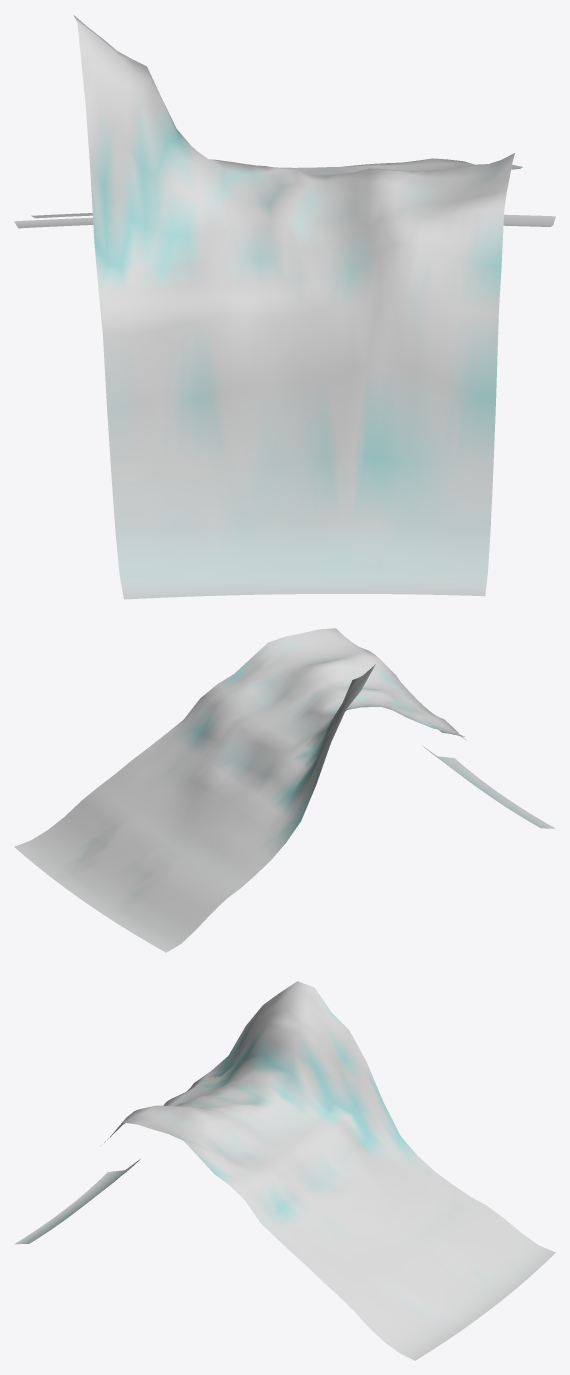
File: near_12.glb
The picture shows the model from 3 angles, top to bottom: view 1: azimuth 30°, elevation 25°; view 2: azimuth 150°, elevation 25°; view 3: azimuth 270°, elevation 25°; orthographic projection. The views are drawn at different scales.
Visible parts, largest first — view 1: Mountain; view 2: Mountain; view 3: Mountain.
Part boxes in pixels (<box>): Mountain: <box>14,15,555,599</box>; Mountain: <box>14,628,555,952</box>; Mountain: <box>14,981,555,1360</box>.
Size of the model in its own units: 321 by 178 by 390.
